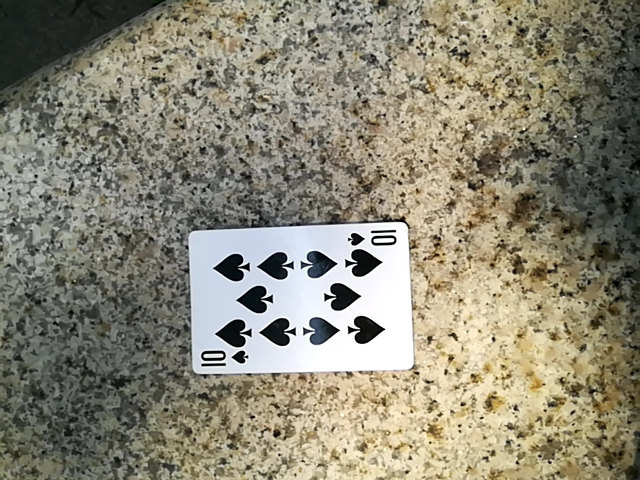ht 10: (182, 220, 418, 376)
